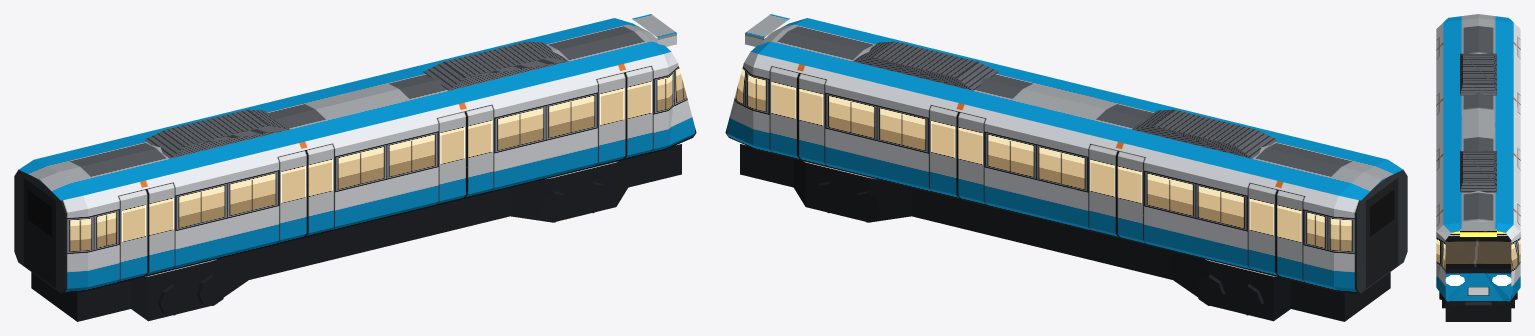
File: paris_idfm_steel__neutral__cab.glb
3 renders of one model, left to right at view 1: azimuth 30°, elevation 25°; view 2: azimuth 150°, elevation 25°; view 3: azimuth 270°, elevation 25°, orthographic. The views are drawn at different scales.
Parts seen in each view (by area): view 1: paris_idfm_steel__neutral__cab; view 2: paris_idfm_steel__neutral__cab; view 3: paris_idfm_steel__neutral__cab.
Part boxes in pixels (x1,y1,x2,y2): paris_idfm_steel__neutral__cab: [14, 14, 696, 321]; paris_idfm_steel__neutral__cab: [725, 14, 1407, 321]; paris_idfm_steel__neutral__cab: [1436, 14, 1520, 321].
Bounding box in the file's own units: 15.15 × 3.47 × 2.44.
1 material, 1 textured.
